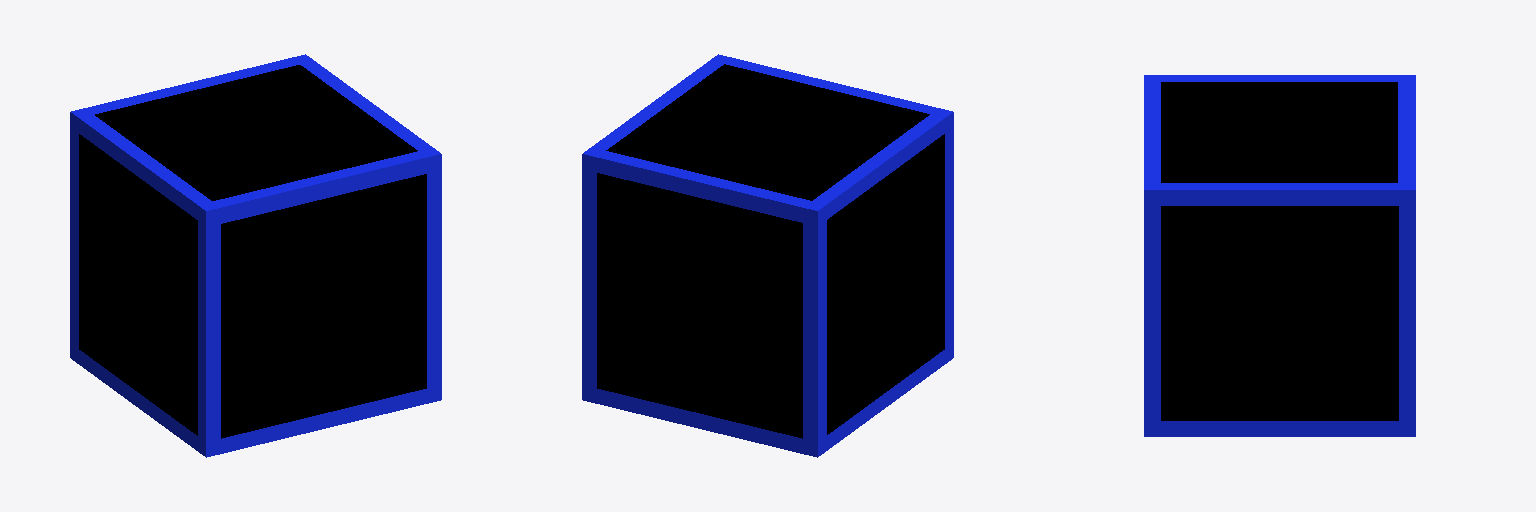
3 views of the same model, side by side, from view 1: azimuth 30°, elevation 25°; view 2: azimuth 150°, elevation 25°; view 3: azimuth 270°, elevation 25° (orthographic).
Visible parts, largest first — view 1: player; view 2: player; view 3: player.
Boxes of the visible parts, x1=… form: player: x1=70, y1=54, x2=441, y2=457; player: x1=582, y1=54, x2=953, y2=457; player: x1=1144, y1=75, x2=1415, y2=436.
Bounding box in the file's own units: 1.6 × 1.6 × 1.6.
1 materials, 1 textured.